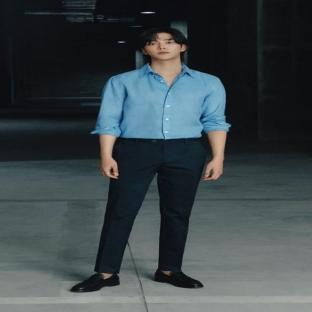Human: (72, 28, 230, 292)
